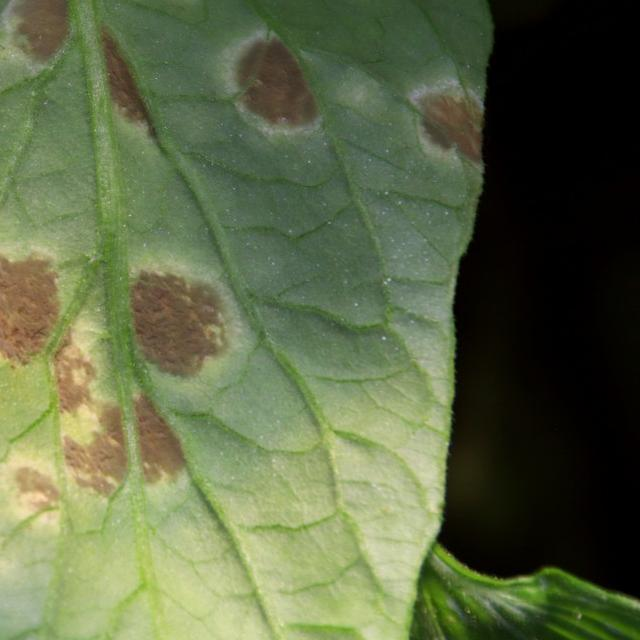Tomato mold leaf: (0, 0, 500, 640)
